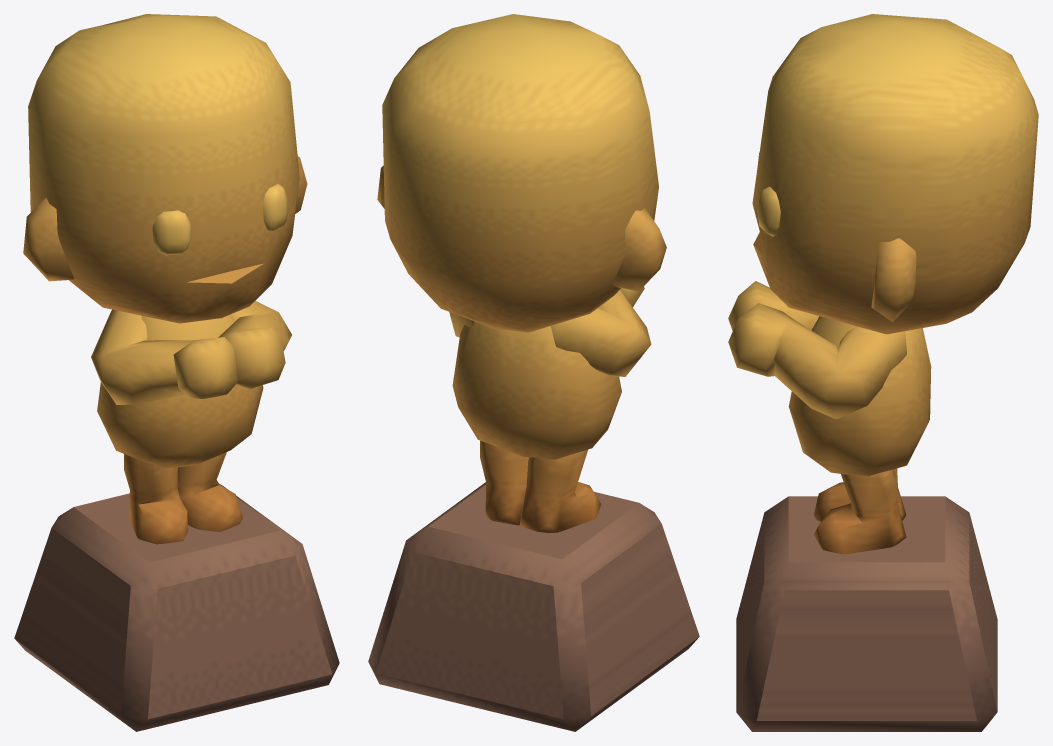
Rendered from idol-a.glb.
3 views of the same model, side by side, from view 1: azimuth 30°, elevation 25°; view 2: azimuth 150°, elevation 25°; view 3: azimuth 270°, elevation 25° (orthographic). The views are drawn at different scales.
Parts seen in each view (by area): view 1: idol_A; view 2: idol_A; view 3: idol_A.
Part boxes in pixels (<box>): idol_A: <box>14,14,339,731</box>; idol_A: <box>368,14,699,731</box>; idol_A: <box>728,14,1038,731</box>.
Bounding box in the file's own units: 0.3896 × 0.8451 × 0.3677.
1 material, 1 textured.
